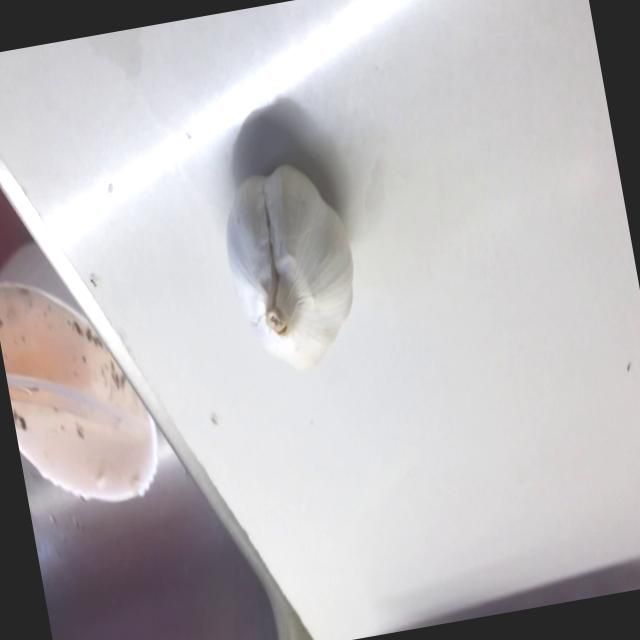bawang: (210, 151, 373, 382)
